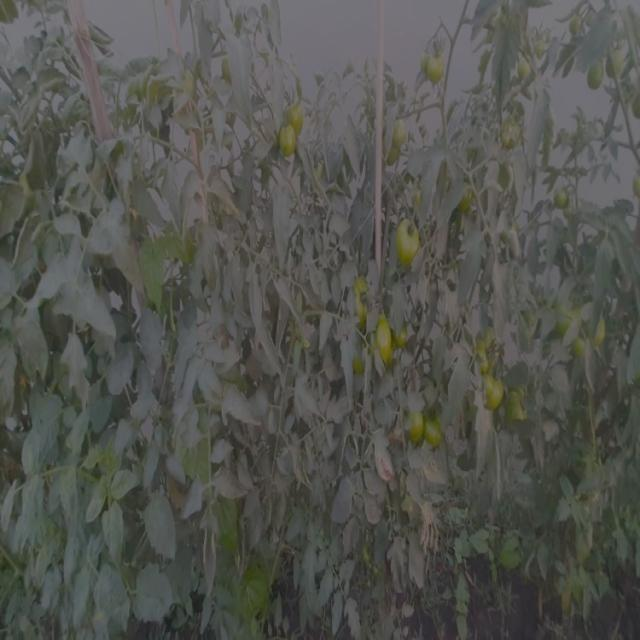tomato: (394, 221, 431, 277), (576, 310, 610, 361), (373, 314, 395, 361), (473, 333, 503, 367), (280, 96, 309, 131), (481, 372, 506, 412), (554, 299, 578, 339), (350, 277, 372, 320), (274, 130, 303, 160), (424, 49, 448, 85), (610, 44, 634, 80), (500, 113, 524, 149), (388, 115, 410, 152), (403, 407, 424, 444), (398, 320, 418, 358), (510, 392, 534, 423), (553, 187, 576, 217), (426, 420, 446, 453), (586, 62, 605, 92), (518, 55, 539, 82), (566, 13, 583, 38)
